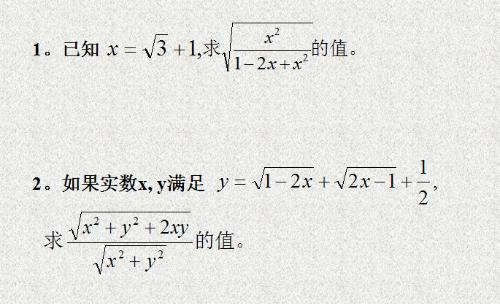sqrt: (223, 20, 314, 72), (67, 209, 191, 240), (92, 244, 169, 273), (252, 164, 315, 193), (335, 164, 400, 191), (146, 33, 168, 58)
square: (64, 239, 191, 247), (132, 215, 141, 226), (416, 179, 431, 185), (157, 249, 165, 260), (118, 248, 125, 260), (302, 52, 310, 61), (92, 217, 101, 225), (274, 26, 281, 36)
